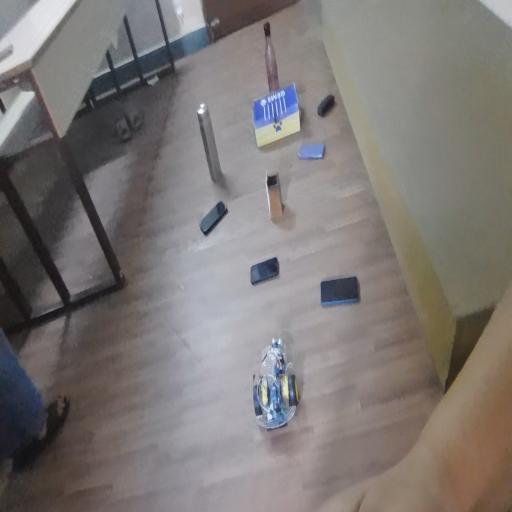Bottle: (251, 13, 281, 81)
car: (238, 325, 329, 463)
